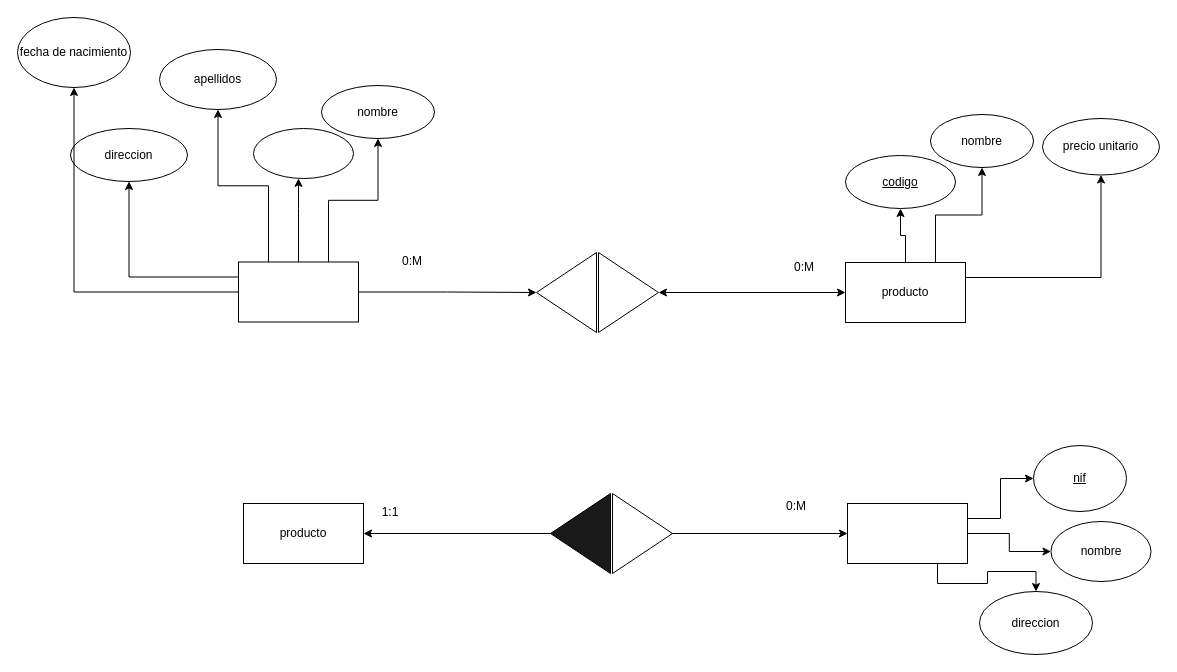
This 1177x672 diagram has some shape labels left out. The shapes that lost their labels are listed below. From the top down, each one's centre as x and y in pixels, then its label:
the point at 303,153: dni
the point at 298,291: cliente
the point at 907,533: proveedor
